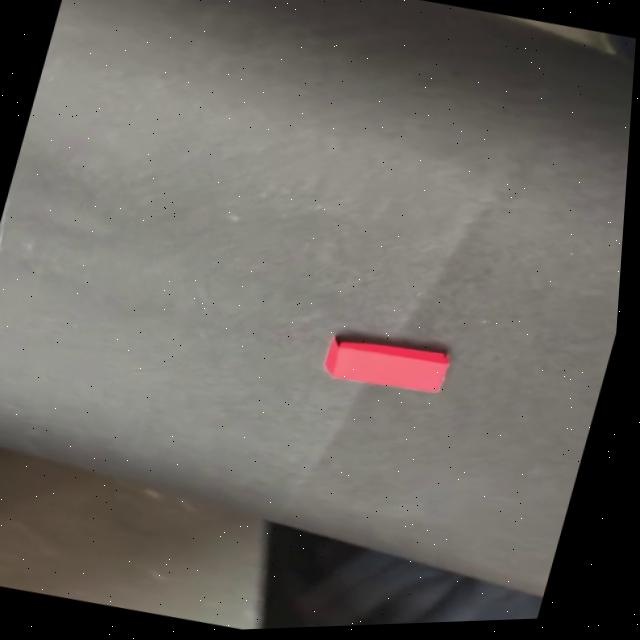red block: (317, 327, 454, 401)
